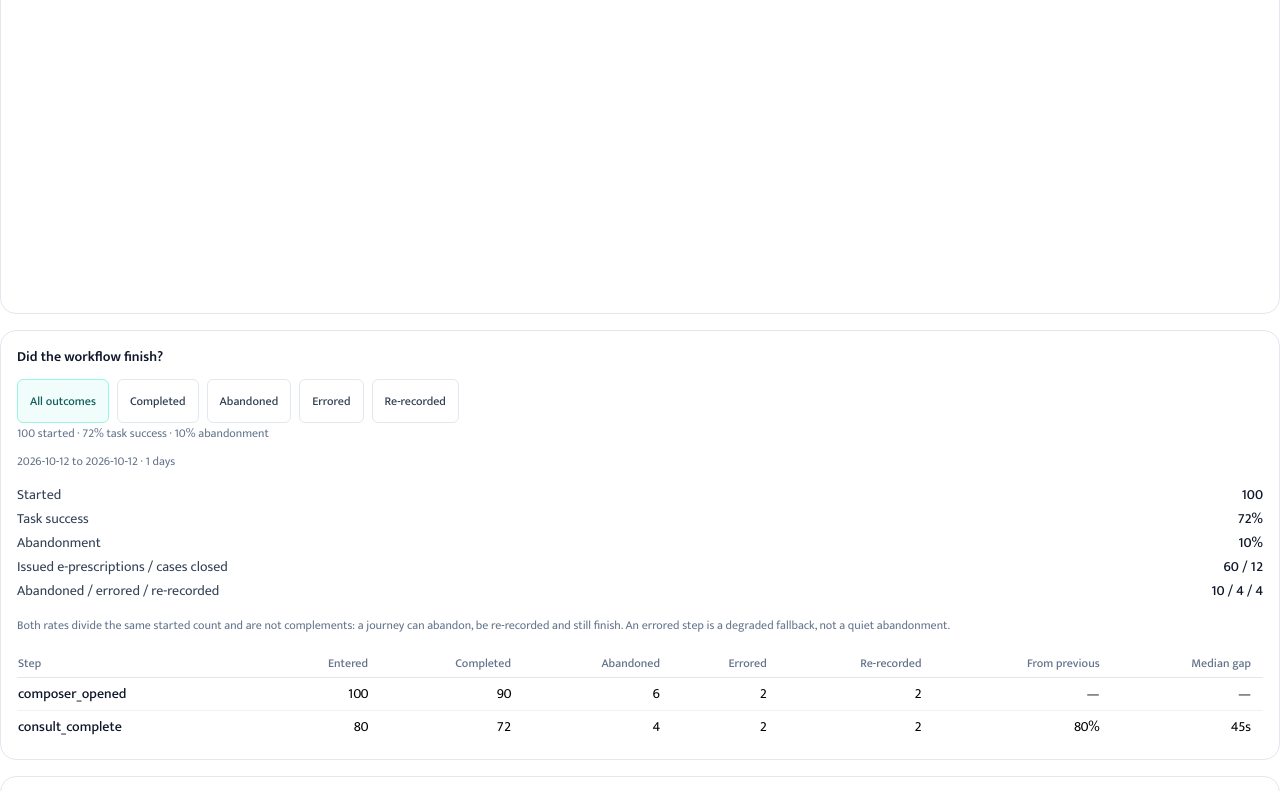
ObservabilityProductPage › re-reads the funnel when the operator isolates an outcome
The width and height of the screenshot is (1280, 791).
(page scrolled)
Expected: the text "100 started · 72% task success · 10% abandonment" is shown, [17,423,269,443]
Click the button with test id "product-funnel-filter-abandoned".
click(249, 401)  # box [207,379,291,423]
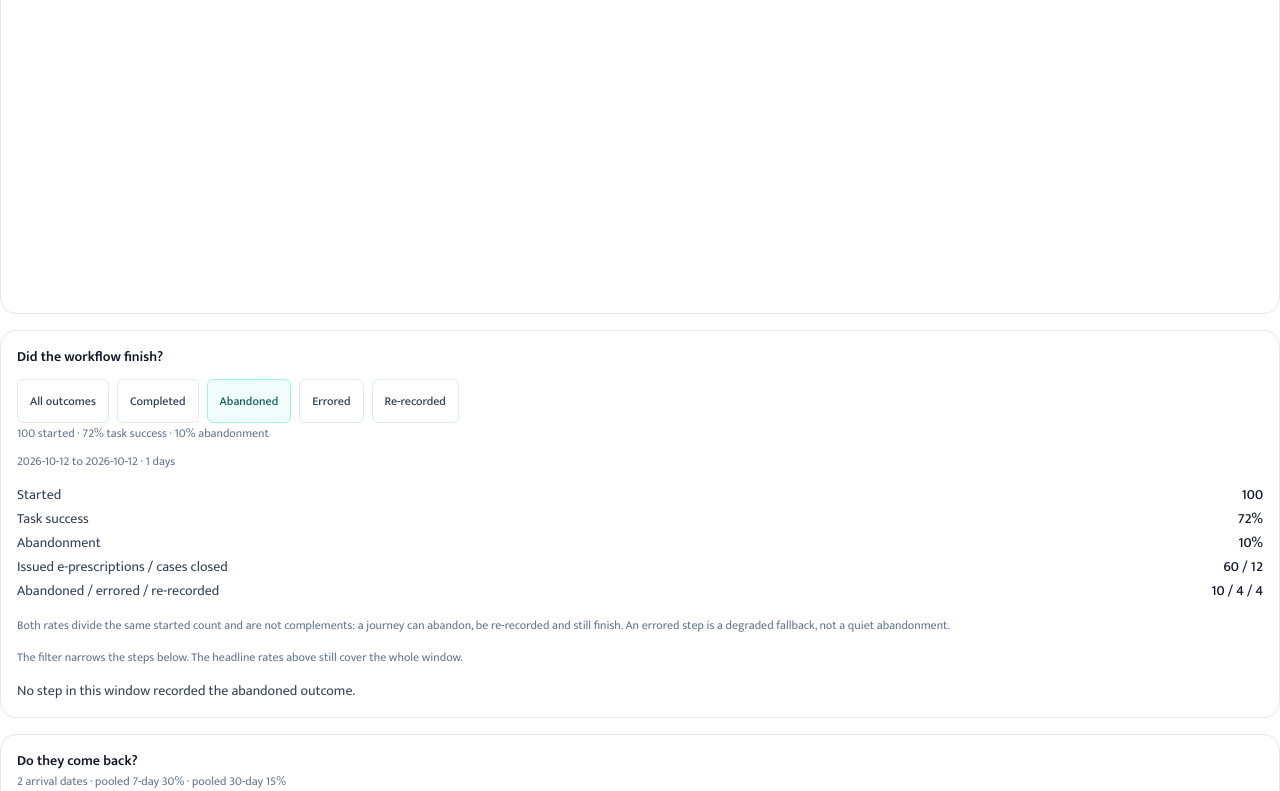
Expected: the text with test id "product-funnel-takeaway" reads "100 started · 72% task success · 10% abandonment", [17,423,269,443]
Expected: the text with test id "product-funnel-filter-note" shows "whole window", [17,647,463,667]
Expected: the text with test id "product-funnel-no-steps" shows "abandoned", [231,679,297,702]
